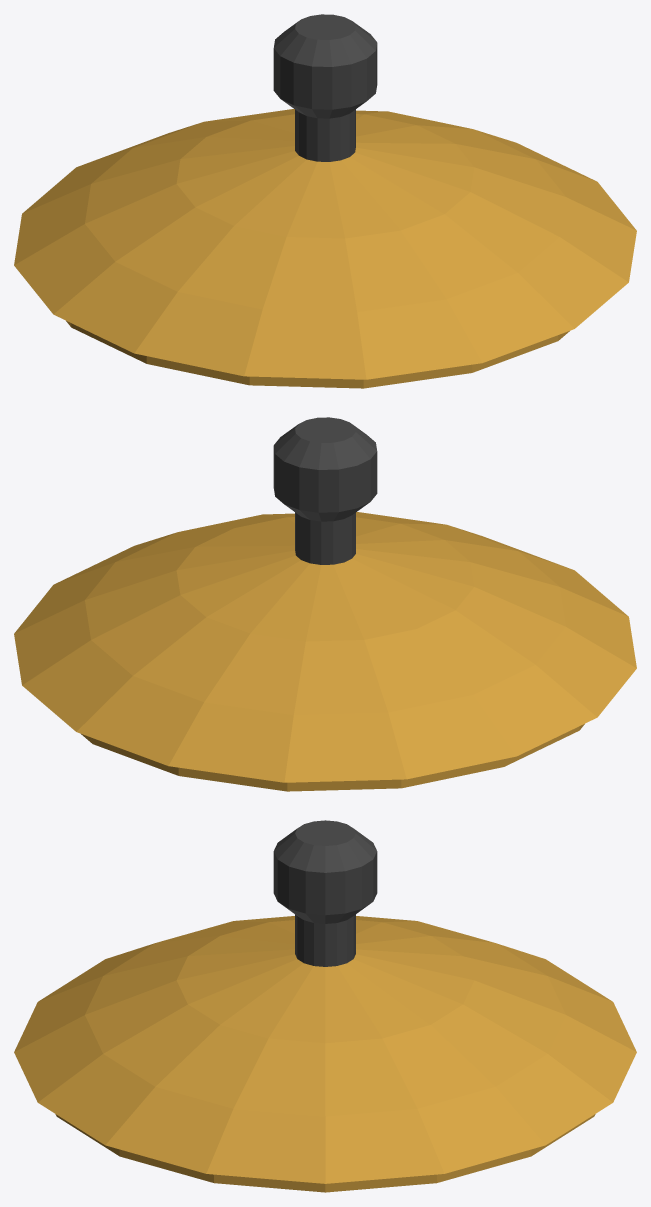
The model's file is Kettle2_C3_02.fbx.
3 renders of one model, top to bottom at view 1: azimuth 30°, elevation 25°; view 2: azimuth 150°, elevation 25°; view 3: azimuth 270°, elevation 25°, orthographic.
Visible parts, largest first — view 1: Kettle2_C3_02; view 2: Kettle2_C3_02; view 3: Kettle2_C3_02.
Part boxes in pixels (x1,y1,x2,y2): Kettle2_C3_02: [14, 14, 636, 388]; Kettle2_C3_02: [14, 417, 636, 791]; Kettle2_C3_02: [14, 820, 636, 1192].
Size of the model in its own units: 13.49 by 5.65 by 13.49.
